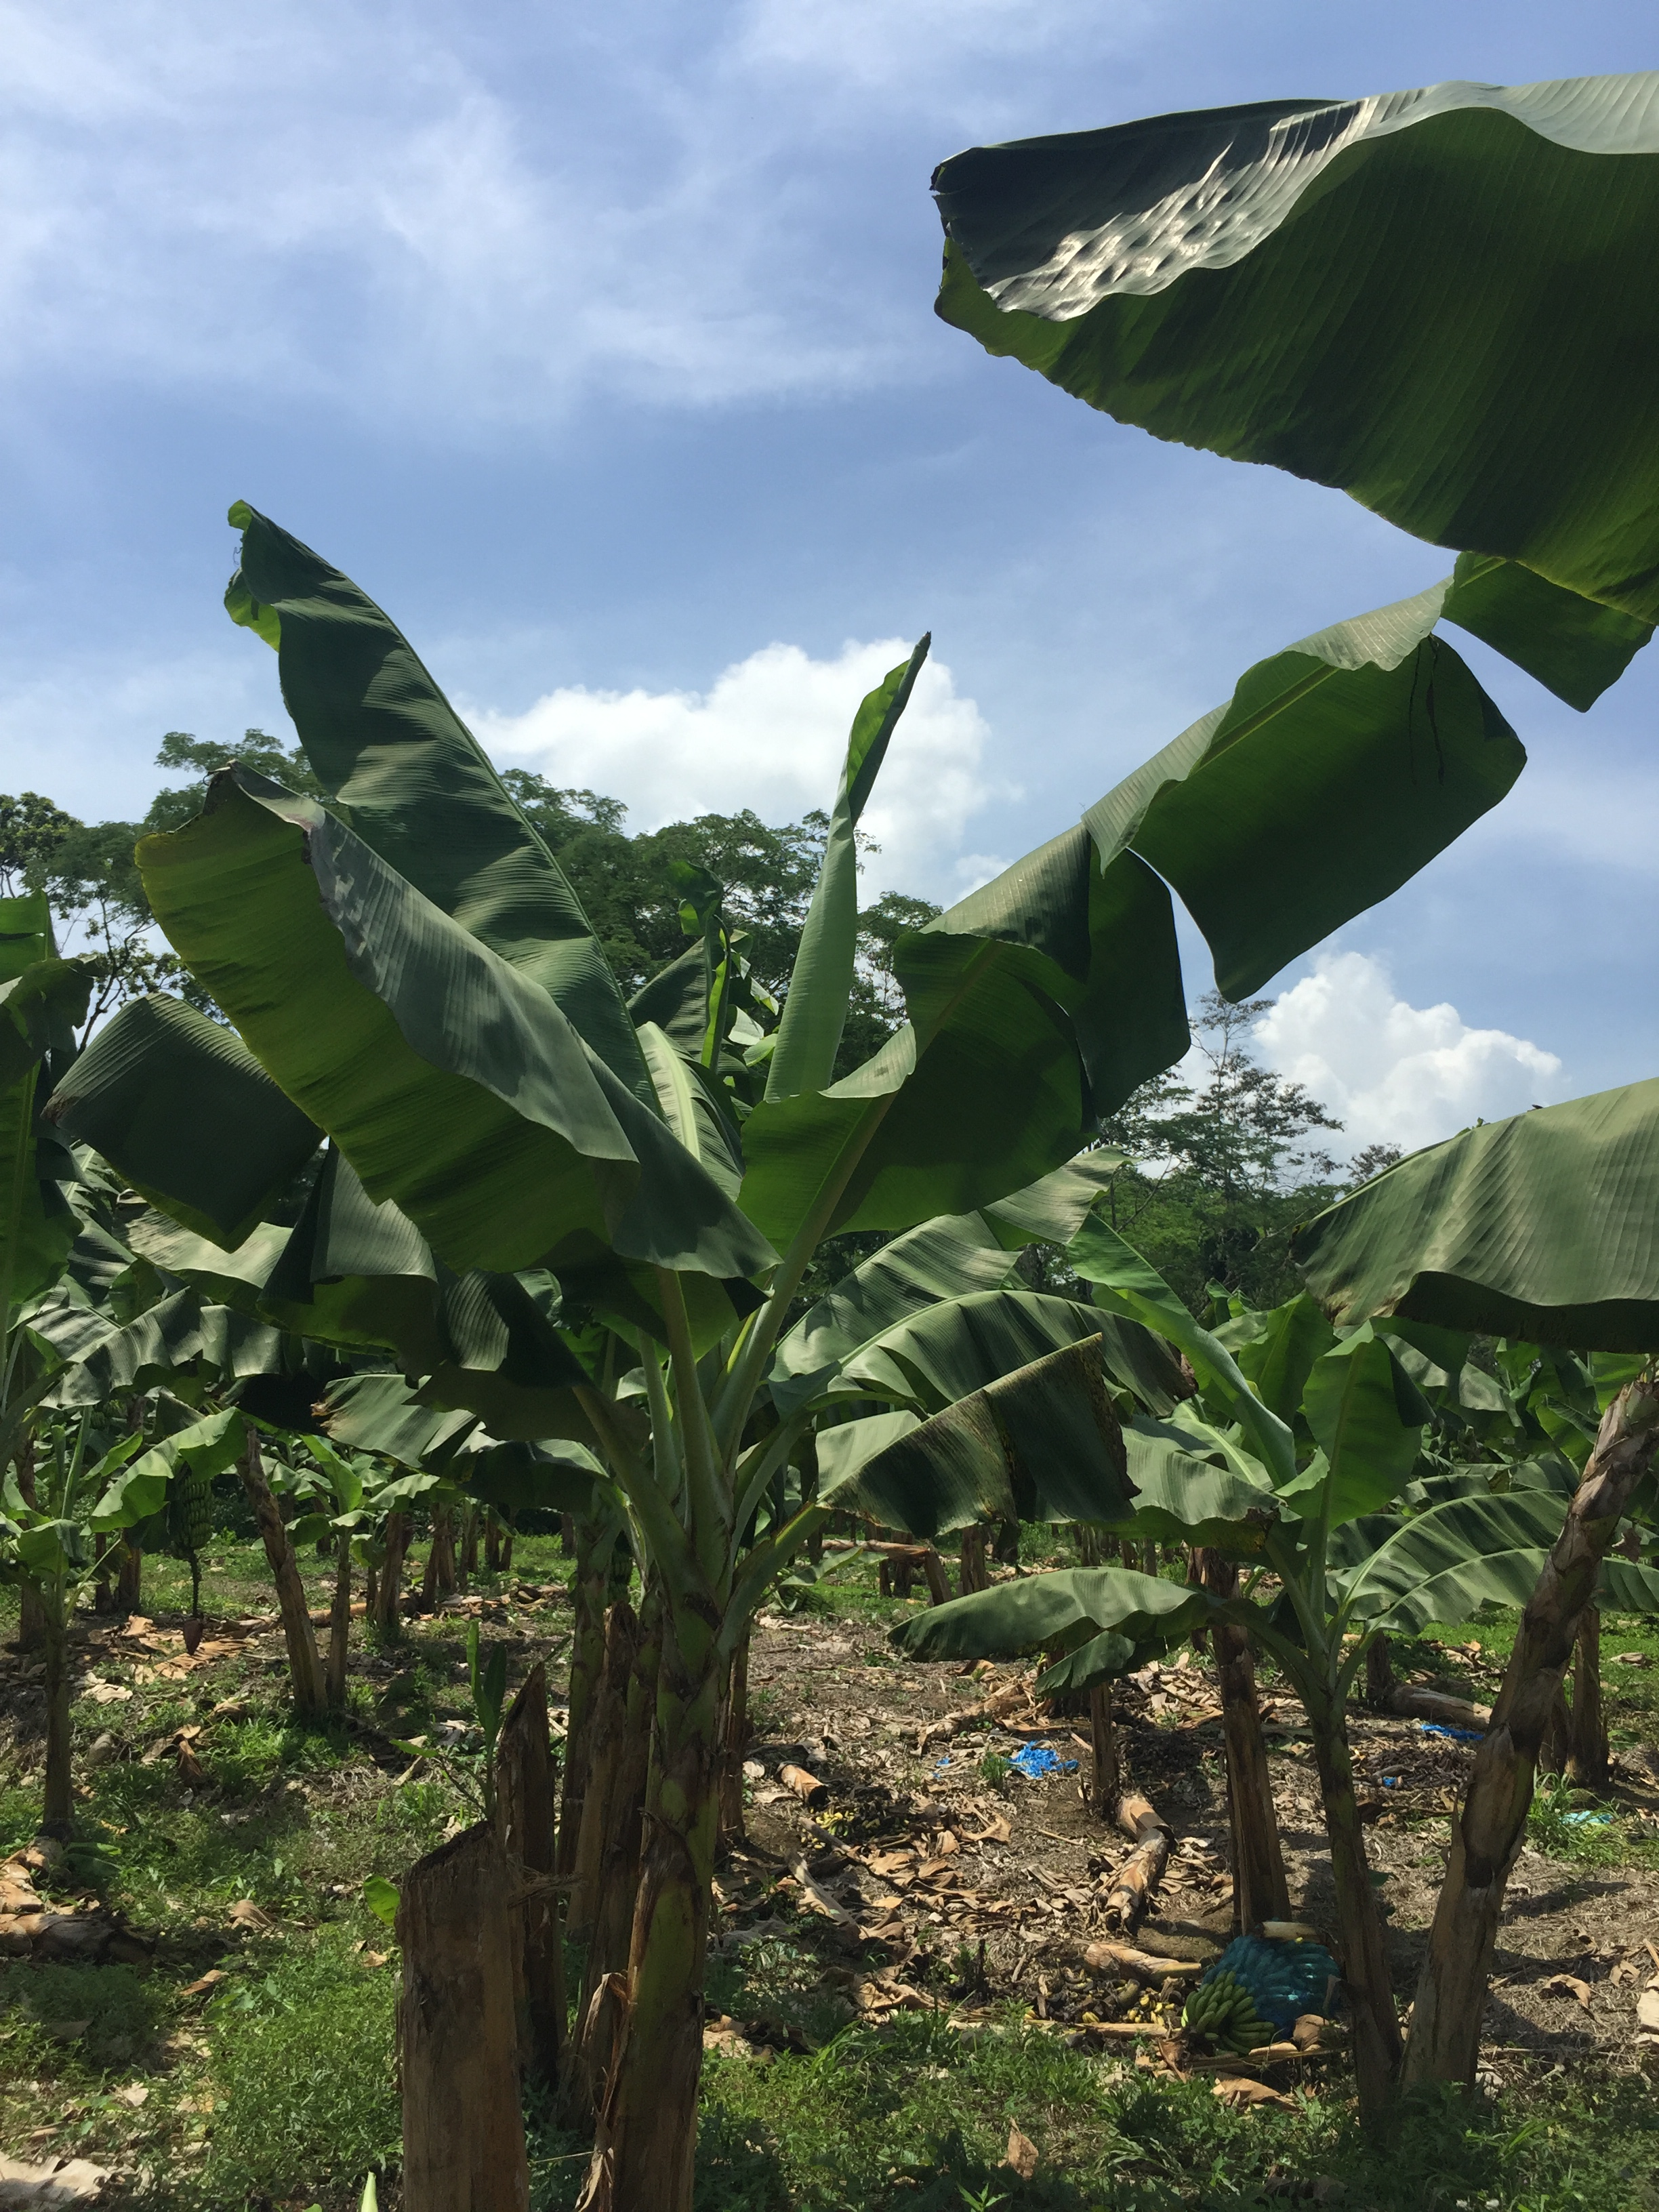candleleafs: (760, 627, 929, 1113)
